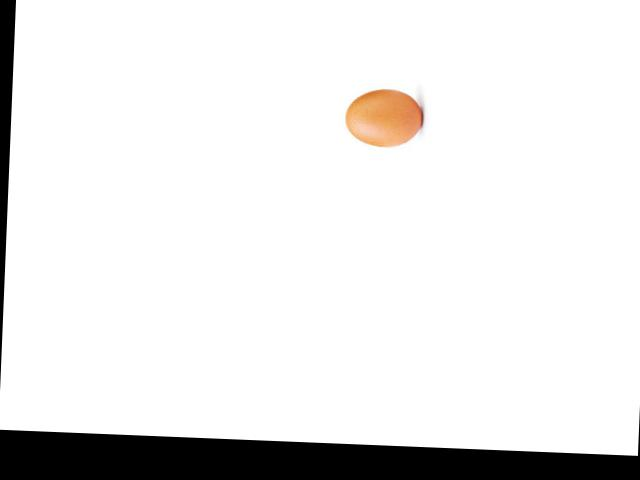egg: (345, 87, 422, 147)
